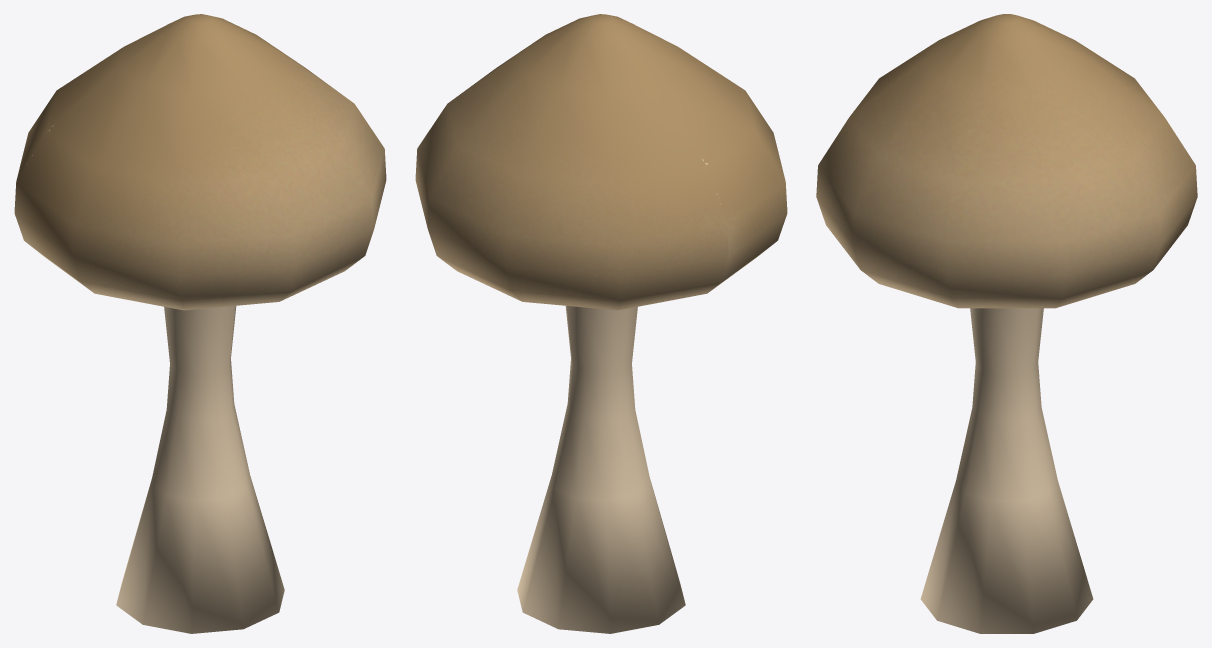
File: shroomTall.fbx
3 views of the same model, side by side, from view 1: azimuth 30°, elevation 25°; view 2: azimuth 150°, elevation 25°; view 3: azimuth 270°, elevation 25° (orthographic).
Visible parts, largest first — view 1: tall shroom; view 2: tall shroom; view 3: tall shroom.
Part boxes in pixels (x1,y1,x2,y2): tall shroom: (14,14,386,633); tall shroom: (415,14,787,633); tall shroom: (816,14,1197,633).
Size of the model in its own units: 71.34 by 126 by 75.01.
